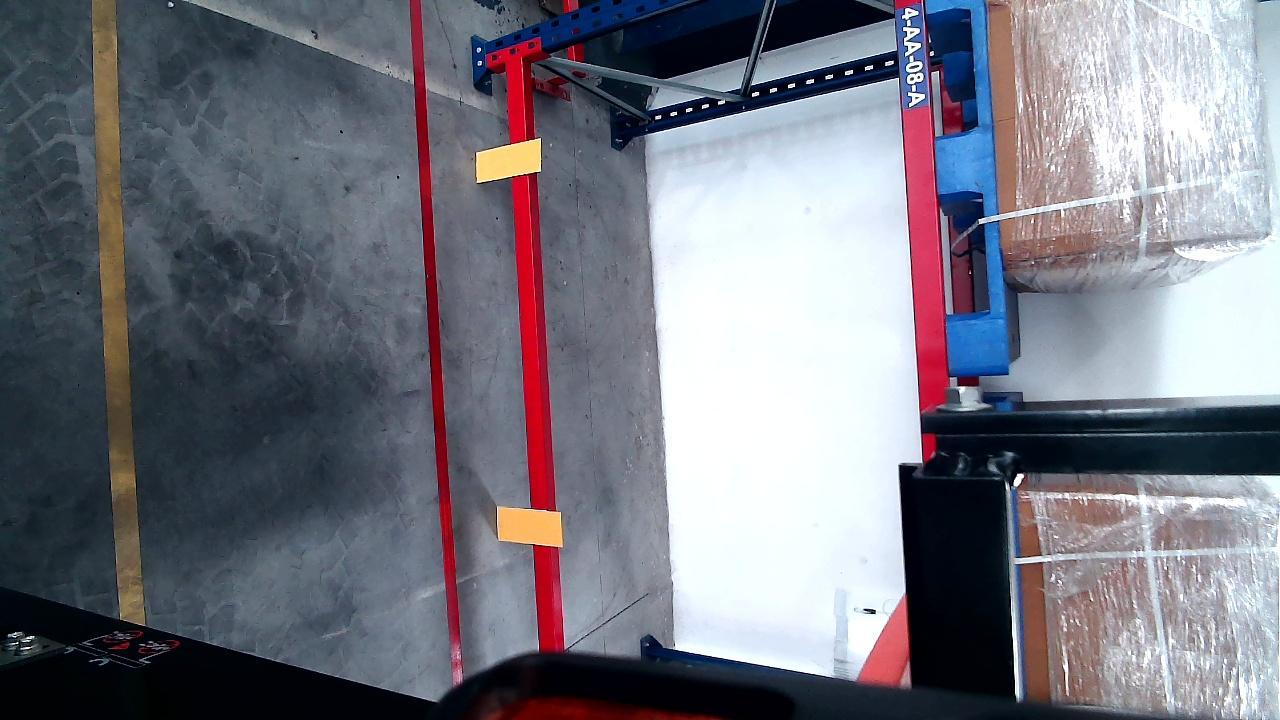red_line: (406, 1, 464, 689)
yellow_line: (90, 0, 145, 629)
